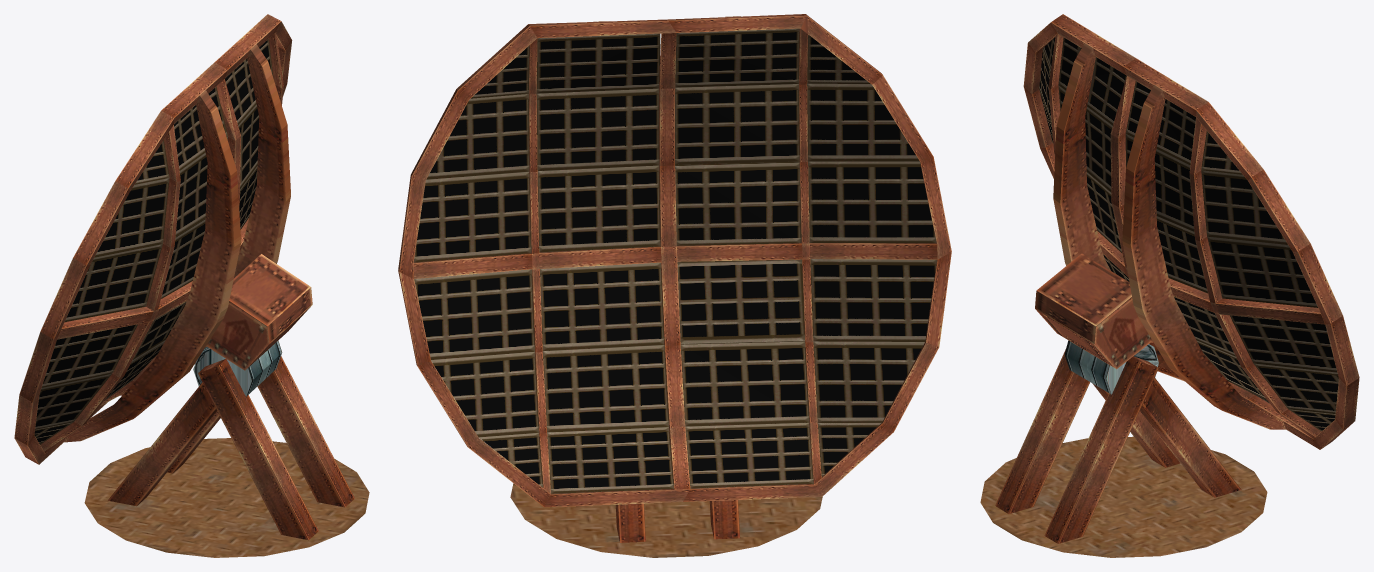
Rendered from C1SMTUNARRAYD.obj.
The picture shows the model from 3 angles, left to right: view 1: azimuth 30°, elevation 25°; view 2: azimuth 150°, elevation 25°; view 3: azimuth 270°, elevation 25°; orthographic projection. The views are drawn at different scales.
Visible parts, largest first — view 1: Node 0; view 2: Node 0; view 3: Node 0.
Part boxes in pixels (box(x1,y1,x2,y2)): Node 0: box(14, 14, 369, 557); Node 0: box(398, 14, 951, 557); Node 0: box(980, 14, 1359, 557).
Size of the model in its own units: 9.25 by 10.59 by 8.07.
Materials: 4 (4 with a texture image).
